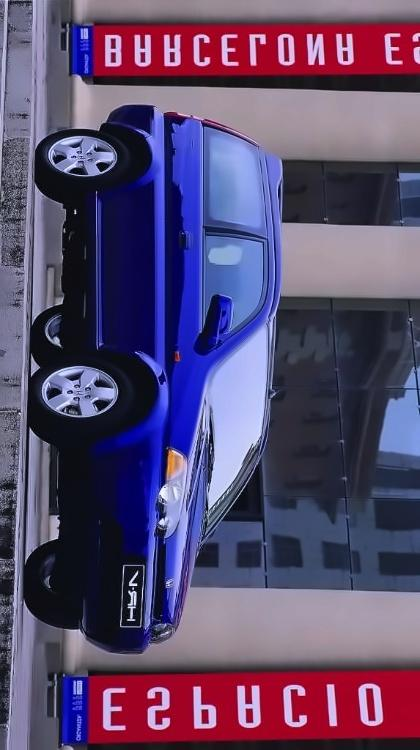Car hood: (154, 372, 216, 640)
Driver-s door - -F-R-: (102, 223, 277, 351)
Fender - -F-R-: (86, 337, 216, 439)
Fender - -R-R-: (98, 125, 201, 212)
Front bumper: (59, 428, 162, 663)
Headlight - -L-: (144, 609, 178, 653)
Headlight - -R-: (150, 440, 196, 542)
Rear bumper: (103, 98, 166, 126)
Rear light - -R-: (150, 101, 258, 146)
Side bumper - -R-: (71, 185, 105, 351)
Side mirror - -R-: (200, 286, 242, 348)
